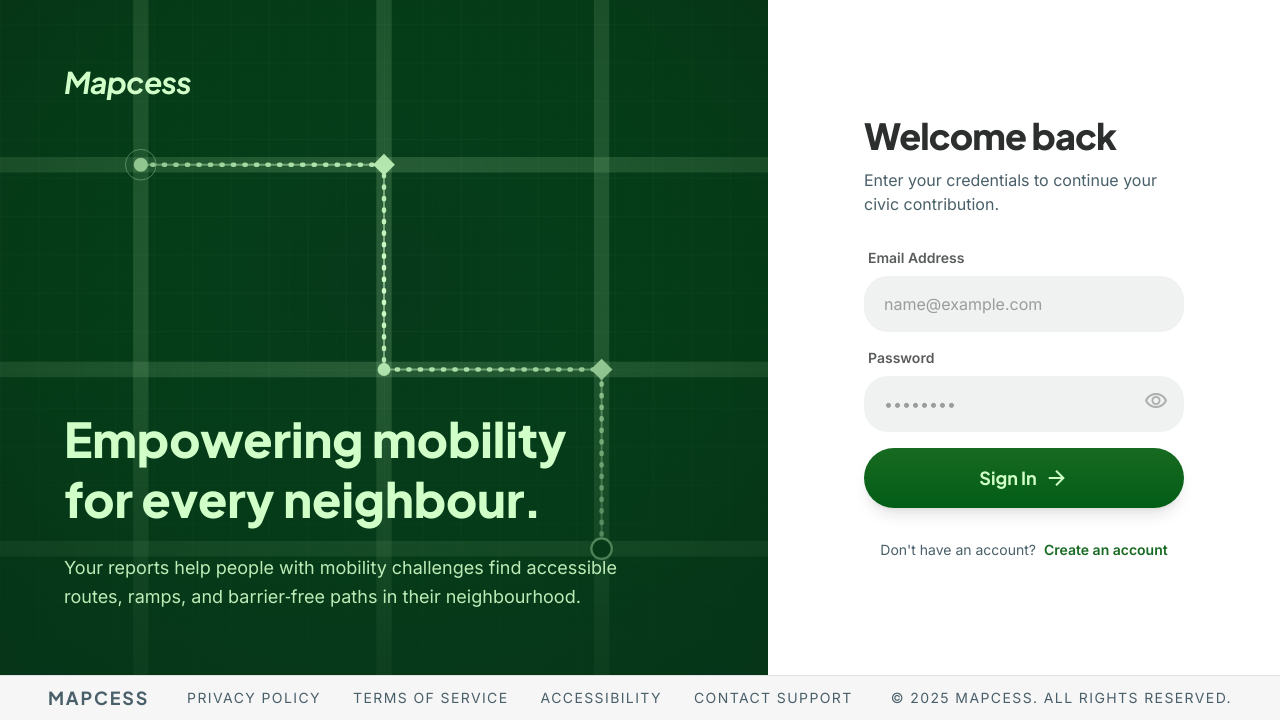
Login page › form submission › disables the button and shows loading text while submitting
Type "a@b.com" into the field labelled "Email Address" at (1024, 304), box [864,276,1184,332]
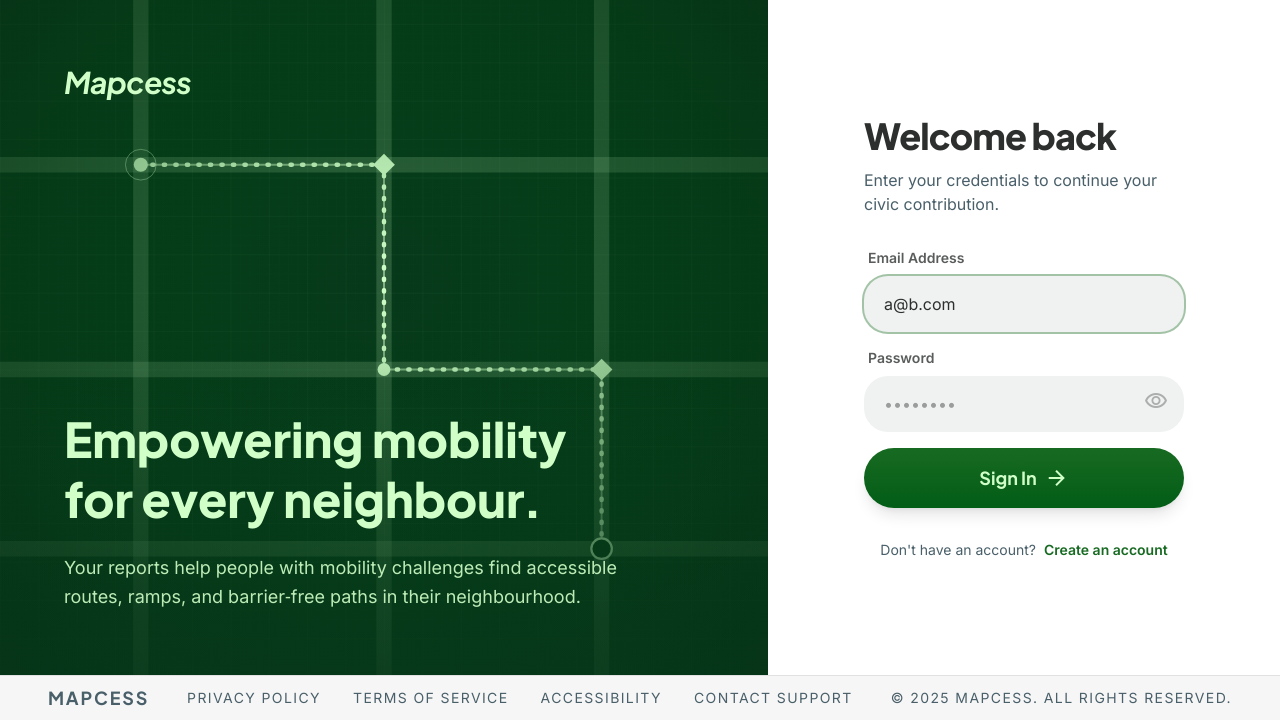
Type "secret" into the password field labelled "Password" at (1024, 404), box [864,376,1184,432]
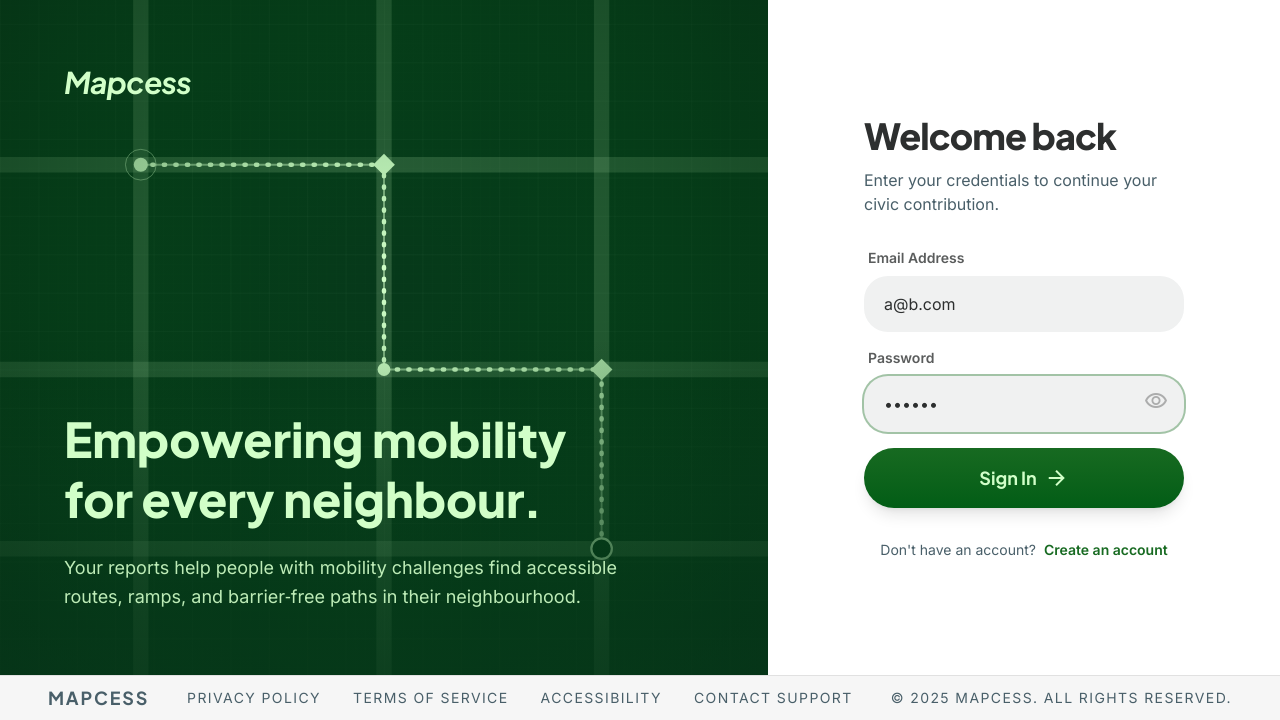
Click the button "Sign In" at (1024, 478), box [864,448,1184,508]
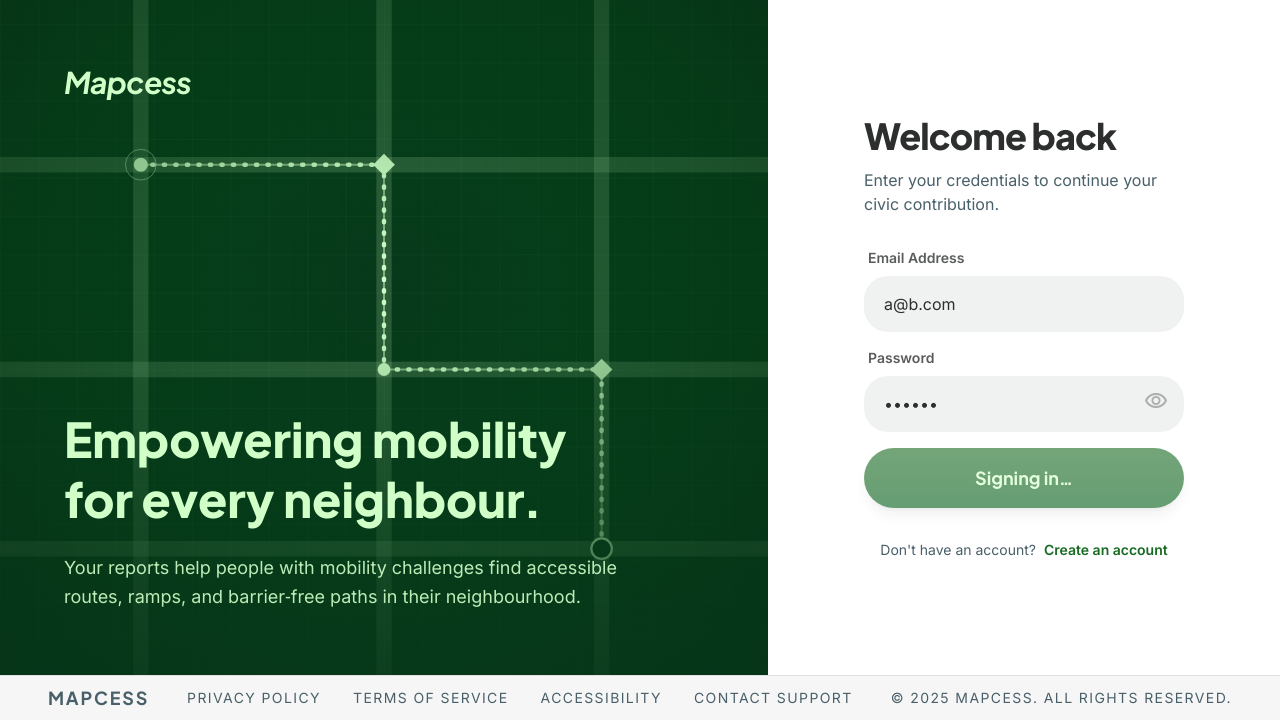
Now the button "Signing in…" is disabled, box [864,448,1184,508]
